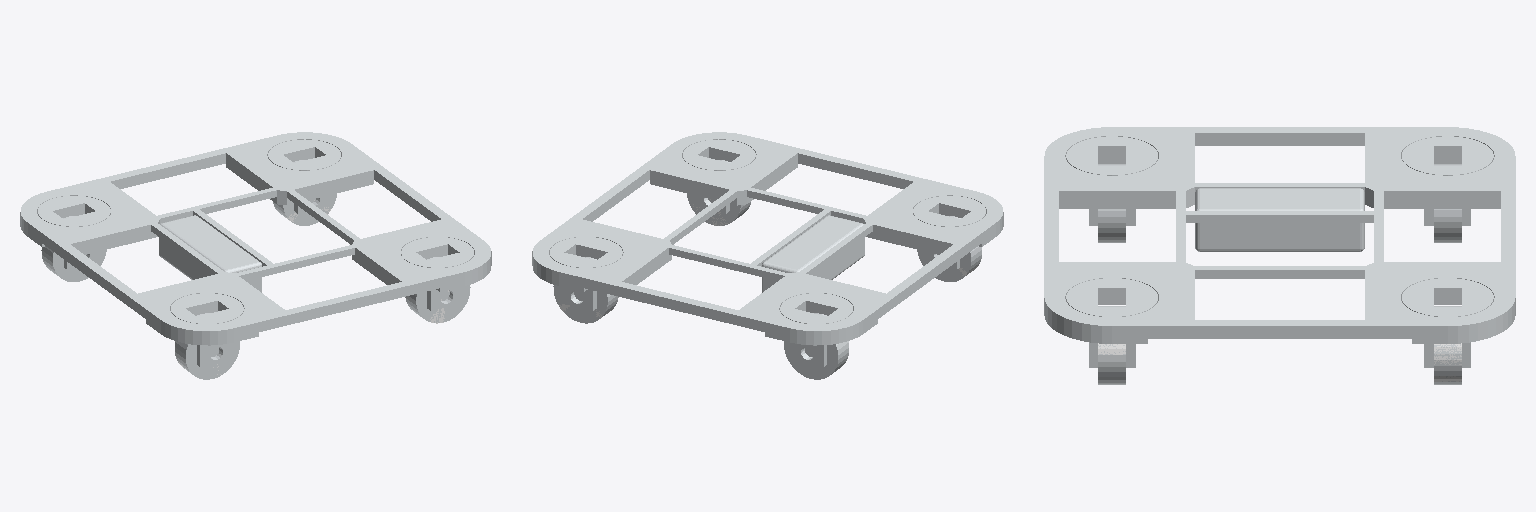
The robot description file, URDF, robot "urdf6":
<?xml version="1.0" encoding="utf-8"?>
<!-- This URDF was automatically created by SolidWorks to URDF Exporter! Originally created by [author] ([email redacted]) 
     Commit Version: 1.6.0-4-g7f85cfe  Build Version: 1.6.7995.38578
     For more information, please see http://wiki.ros.org/sw_urdf_exporter -->
<robot
  name="urdf6">
  <link
    name="base_link">
    <inertial>
      <origin
        xyz="0.239806775598059 0.0644983827316908 -0.25"
        rpy="0 0 0" />
      <mass
        value="6.94691712905856" />
      <inertia
        ixx="0.0103879006677156"
        ixy="8.52629220722859E-20"
        ixz="1.02331586158098E-17"
        iyy="0.0155271521411309"
        iyz="-1.37314630453513E-18"
        izz="0.00891994931423242" />
    </inertial>
    <visual>
      <origin
        xyz="0 0 0"
        rpy="0 0 0" />
      <geometry>
        <mesh
          filename="package://urdf6/meshes/base_link.STL" />
      </geometry>
      <material
        name="">
        <color
          rgba="0.898039215686275 0.917647058823529 0.929411764705882 1" />
      </material>
    </visual>
    <collision>
      <origin
        xyz="0 0 0"
        rpy="0 0 0" />
      <geometry>
        <mesh
          filename="package://urdf6/meshes/base_link.STL" />
      </geometry>
    </collision>
  </link>
  <link
    name="st_fr">
    <inertial>
      <origin
        xyz="5.55111512312578E-17 1.38777878078145E-17 -0.0477326937791915"
        rpy="0 0 0" />
      <mass
        value="0.98656895809198" />
      <inertia
        ixx="0.000605869465521238"
        ixy="-2.67478592933712E-18"
        ixz="-1.5526806935016E-20"
        iyy="0.000870444277121926"
        iyz="-2.66854835576841E-20"
        izz="0.000666770084789447" />
    </inertial>
    <visual>
      <origin
        xyz="0 0 0"
        rpy="0 0 0" />
      <geometry>
        <mesh
          filename="package://urdf6/meshes/st_fr.STL" />
      </geometry>
      <material
        name="">
        <color
          rgba="1 1 1 1" />
      </material>
    </visual>
    <collision>
      <origin
        xyz="0 0 0"
        rpy="0 0 0" />
      <geometry>
        <mesh
          filename="package://urdf6/meshes/st_fr.STL" />
      </geometry>
    </collision>
  </link>
  <joint
    name="st_fr"
    type="fixed">
    <origin
      xyz="0.428 0.0719999999999983 0.098"
      rpy="0 0 0" />
    <parent
      link="base_link" />
    <child
      link="st_fr" />
    <axis
      xyz="0 0 0" />
  </joint>
  <link
    name="wh_fr">
    <inertial>
      <origin
        xyz="-1.66533453693773E-16 -5.55111512312578E-17 0.015"
        rpy="0 0 0" />
      <mass
        value="0.764764182848667" />
      <inertia
        ixx="0.000394618318349911"
        ixy="-2.71050543121376E-20"
        ixz="-2.68066210887539E-18"
        iyy="0.000394618318349911"
        iyz="-9.167375055187E-19"
        izz="0.000674522009272522" />
    </inertial>
    <visual>
      <origin
        xyz="0 0 0"
        rpy="0 0 0" />
      <geometry>
        <mesh
          filename="package://urdf6/meshes/wh_fr.STL" />
      </geometry>
      <material
        name="">
        <color
          rgba="0.686274509803922 0.658823529411765 0.63921568627451 1" />
      </material>
    </visual>
    <collision>
      <origin
        xyz="0 0 0"
        rpy="0 0 0" />
      <geometry>
        <mesh
          filename="package://urdf6/meshes/wh_fr.STL" />
      </geometry>
    </collision>
  </link>
  <joint
    name="wh_fr"
    type="fixed">
    <origin
      xyz="0 0.015 -0.056"
      rpy="-1.5707963267949 -0.316982240676282 3.14159265358979" />
    <parent
      link="st_fr" />
    <child
      link="wh_fr" />
    <axis
      xyz="0 0 0" />
  </joint>
  <link
    name="st_fl">
    <inertial>
      <origin
        xyz="5.55111512312578E-17 5.55111512312578E-17 -0.0477326937791915"
        rpy="0 0 0" />
      <mass
        value="0.98656895809198" />
      <inertia
        ixx="0.000605869465521238"
        ixy="-2.67545989900641E-18"
        ixz="-1.97204437306171E-20"
        iyy="0.000870444277121926"
        iyz="-8.25064712488782E-20"
        izz="0.000666770084789446" />
    </inertial>
    <visual>
      <origin
        xyz="0 0 0"
        rpy="0 0 0" />
      <geometry>
        <mesh
          filename="package://urdf6/meshes/st_fl.STL" />
      </geometry>
      <material
        name="">
        <color
          rgba="1 1 1 1" />
      </material>
    </visual>
    <collision>
      <origin
        xyz="0 0 0"
        rpy="0 0 0" />
      <geometry>
        <mesh
          filename="package://urdf6/meshes/st_fl.STL" />
      </geometry>
    </collision>
  </link>
  <joint
    name="st_fl"
    type="fixed">
    <origin
      xyz="0.428000000000003 0.427999999999998 0.0979999999999999"
      rpy="0 0 0" />
    <parent
      link="base_link" />
    <child
      link="st_fl" />
    <axis
      xyz="0 0 0" />
  </joint>
  <link
    name="wh_fl">
    <inertial>
      <origin
        xyz="-2.77555756156289E-17 1.66533453693773E-16 0.015"
        rpy="0 0 0" />
      <mass
        value="0.764764182848667" />
      <inertia
        ixx="0.000394618318349911"
        ixy="0"
        ixz="-5.48258672951474E-19"
        iyy="0.000394618318349911"
        iyz="2.77721496200514E-18"
        izz="0.000674522009272521" />
    </inertial>
    <visual>
      <origin
        xyz="0 0 0"
        rpy="0 0 0" />
      <geometry>
        <mesh
          filename="package://urdf6/meshes/wh_fl.STL" />
      </geometry>
      <material
        name="">
        <color
          rgba="0.686274509803922 0.658823529411765 0.63921568627451 1" />
      </material>
    </visual>
    <collision>
      <origin
        xyz="0 0 0"
        rpy="0 0 0" />
      <geometry>
        <mesh
          filename="package://urdf6/meshes/wh_fl.STL" />
      </geometry>
    </collision>
  </link>
  <joint
    name="wh_fl"
    type="fixed">
    <origin
      xyz="0 0.015 -0.056"
      rpy="-1.5707963267949 1.37893541128007 3.14159265358979" />
    <parent
      link="st_fl" />
    <child
      link="wh_fl" />
    <axis
      xyz="0 0 -1" />
  </joint>
  <link
    name="st_bl">
    <inertial>
      <origin
        xyz="-8.32667268468867E-17 0 -0.0477326937791914"
        rpy="0 0 0" />
      <mass
        value="0.986568958091981" />
      <inertia
        ixx="0.000605869465521239"
        ixy="-2.72369232616687E-18"
        ixz="-4.91062297093515E-21"
        iyy="0.000870444277121927"
        iyz="-3.87853460025097E-20"
        izz="0.000666770084789447" />
    </inertial>
    <visual>
      <origin
        xyz="0 0 0"
        rpy="0 0 0" />
      <geometry>
        <mesh
          filename="package://urdf6/meshes/st_bl.STL" />
      </geometry>
      <material
        name="">
        <color
          rgba="1 1 1 1" />
      </material>
    </visual>
    <collision>
      <origin
        xyz="0 0 0"
        rpy="0 0 0" />
      <geometry>
        <mesh
          filename="package://urdf6/meshes/st_bl.STL" />
      </geometry>
    </collision>
  </link>
  <joint
    name="st_bl"
    type="fixed">
    <origin
      xyz="0.0719999999999937 0.428000000000001 0.0979999999999999"
      rpy="0 0 0" />
    <parent
      link="base_link" />
    <child
      link="st_bl" />
    <axis
      xyz="0 0 0" />
  </joint>
  <link
    name="wh_bl">
    <inertial>
      <origin
        xyz="0 1.11022302462516E-16 0.015"
        rpy="0 0 0" />
      <mass
        value="0.764764182848668" />
      <inertia
        ixx="0.000394618318349911"
        ixy="8.470329472543E-22"
        ixz="1.04246469853974E-19"
        iyy="0.000394618318349911"
        iyz="2.87657101211516E-18"
        izz="0.000674522009272522" />
    </inertial>
    <visual>
      <origin
        xyz="0 0 0"
        rpy="0 0 0" />
      <geometry>
        <mesh
          filename="package://urdf6/meshes/wh_bl.STL" />
      </geometry>
      <material
        name="">
        <color
          rgba="0.686274509803922 0.658823529411765 0.63921568627451 1" />
      </material>
    </visual>
    <collision>
      <origin
        xyz="0 0 0"
        rpy="0 0 0" />
      <geometry>
        <mesh
          filename="package://urdf6/meshes/wh_bl.STL" />
      </geometry>
    </collision>
  </link>
  <joint
    name="wh_bl"
    type="fixed">
    <origin
      xyz="0 0.015 -0.0559999999999999"
      rpy="1.5707963267949 1.5497746785967 0" />
    <parent
      link="st_bl" />
    <child
      link="wh_bl" />
    <axis
      xyz="0 0 1" />
  </joint>
  <link
    name="st_br">
    <inertial>
      <origin
        xyz="1.38777878078145E-17 1.38777878078145E-17 -0.0477326937791915"
        rpy="0 0 0" />
      <mass
        value="0.98656895809198" />
      <inertia
        ixx="0.000605869465521238"
        ixy="-2.64224544645102E-18"
        ixz="-4.99362556594638E-21"
        iyy="0.000870444277121926"
        iyz="6.55402438299341E-21"
        izz="0.000666770084789447" />
    </inertial>
    <visual>
      <origin
        xyz="0 0 0"
        rpy="0 0 0" />
      <geometry>
        <mesh
          filename="package://urdf6/meshes/st_br.STL" />
      </geometry>
      <material
        name="">
        <color
          rgba="1 1 1 1" />
      </material>
    </visual>
    <collision>
      <origin
        xyz="0 0 0"
        rpy="0 0 0" />
      <geometry>
        <mesh
          filename="package://urdf6/meshes/st_br.STL" />
      </geometry>
    </collision>
  </link>
  <joint
    name="st_br"
    type="fixed">
    <origin
      xyz="0.072 0.0719999999999996 0.0979999999999999"
      rpy="0 0 0" />
    <parent
      link="base_link" />
    <child
      link="st_br" />
    <axis
      xyz="0 0 -1" />
  </joint>
  <link
    name="wh_br">
    <inertial>
      <origin
        xyz="-1.38777878078145E-16 -8.32667268468867E-17 0.015"
        rpy="0 0 0" />
      <mass
        value="0.764764182848667" />
      <inertia
        ixx="0.000394618318349911"
        ixy="2.71050543121376E-20"
        ixz="-2.37144111384372E-18"
        iyy="0.000394618318349911"
        iyz="-1.50660309843309E-18"
        izz="0.000674522009272522" />
    </inertial>
    <visual>
      <origin
        xyz="0 0 0"
        rpy="0 0 0" />
      <geometry>
        <mesh
          filename="package://urdf6/meshes/wh_br.STL" />
      </geometry>
      <material
        name="">
        <color
          rgba="0.686274509803922 0.658823529411765 0.63921568627451 1" />
      </material>
    </visual>
    <collision>
      <origin
        xyz="0 0 0"
        rpy="0 0 0" />
      <geometry>
        <mesh
          filename="package://urdf6/meshes/wh_br.STL" />
      </geometry>
    </collision>
  </link>
  <joint
    name="wh_br"
    type="fixed">
    <origin
      xyz="0 0.015 -0.056"
      rpy="-1.5707963267949 -0.57401915441884 3.14159265358979" />
    <parent
      link="st_br" />
    <child
      link="wh_br" />
    <axis
      xyz="0 0 0" />
  </joint>
</robot>

--- Facts derived from the render (not from the file) ---
3 views of the same robot in one strip: view 1: azimuth 30°, elevation 25°; view 2: azimuth 150°, elevation 25°; view 3: azimuth 270°, elevation 25° (orthographic).
Model urdf6 with 9 links and 8 joints (8 fixed), rooted at base_link, posed every joint at zero.
Links seen in each view (by area): view 1: base_link; view 2: base_link; view 3: base_link.
Boxes of the visible links, <box> form: base_link: <box>20,132,491,379</box>; base_link: <box>532,132,1003,379</box>; base_link: <box>1044,127,1515,384</box>.
Size in the robot's own frame: 0.5 by 0.5 by 0.098 metres.
Meshes: 9 distinct files referenced, 8 mesh visuals loaded (8 binary STL); not drawn: 1 (reference not matched to a file when rendering).